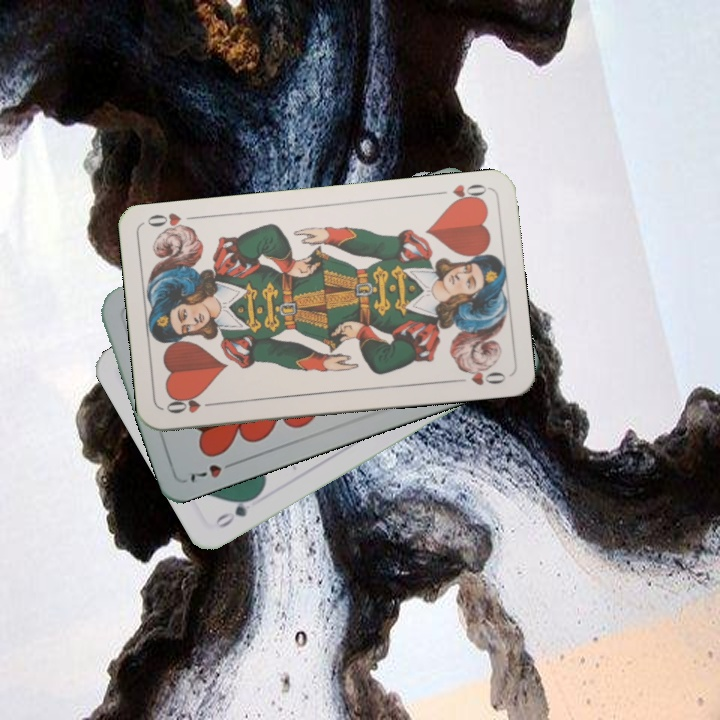GO: (210, 490, 262, 531)
H7: (186, 457, 240, 486)
HO: (431, 179, 490, 208), (162, 392, 220, 416)
